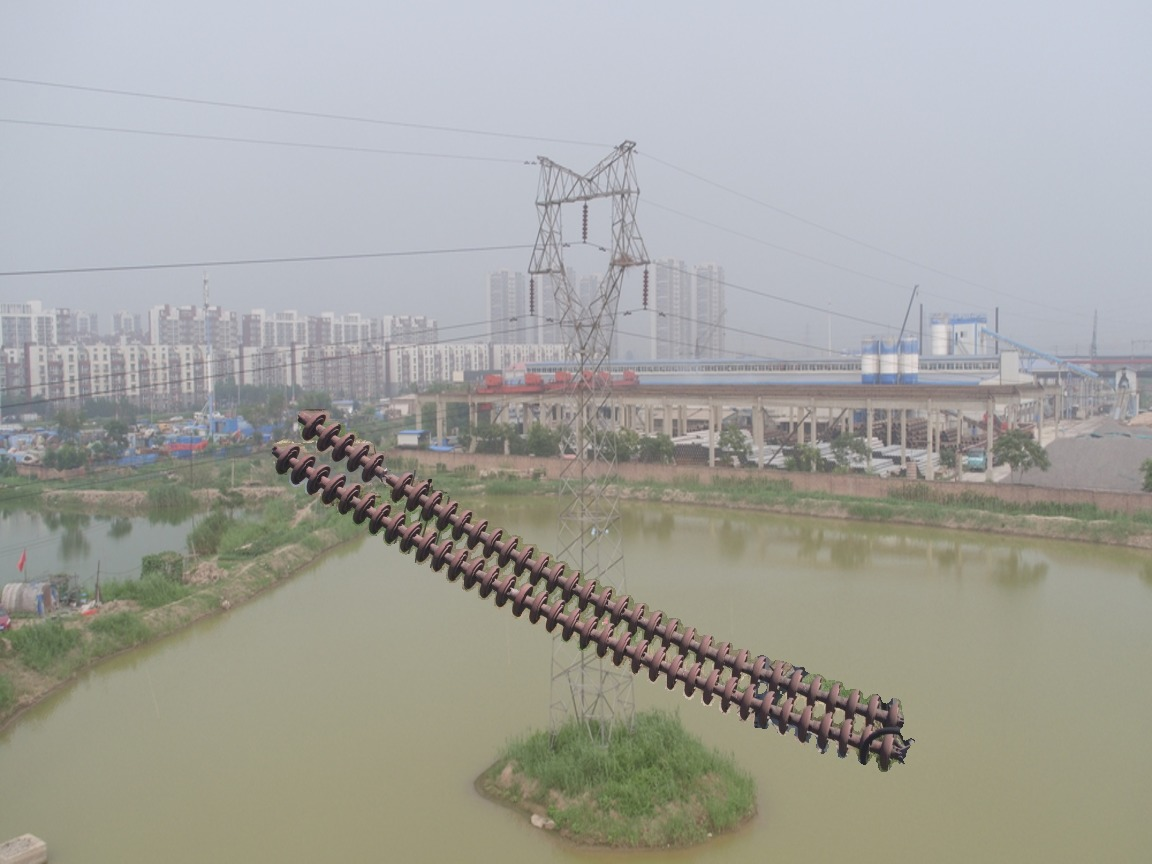defect: (360, 451, 415, 505)
